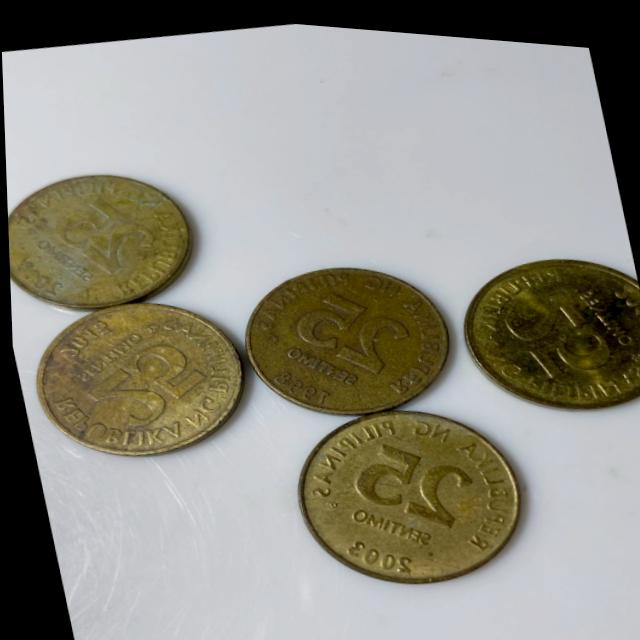25Cent_Old_Front: (342, 419, 475, 534), (74, 329, 201, 436), (284, 272, 409, 376), (490, 276, 604, 384), (48, 185, 157, 285)
